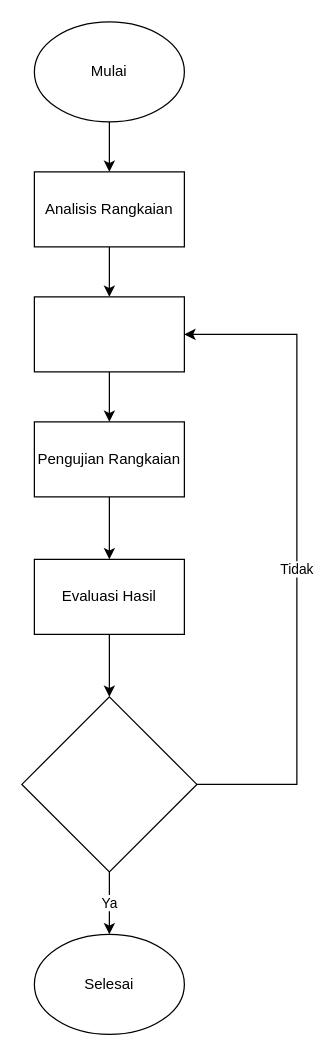
Some shapes in this 335 by 1056 pixel diagram are drawn without their labels. Here are the shapes that lost their labels. From the top down, the box of each, then its label:
(33, 296, 184, 372): Perhitungan Komponen
(21, 696, 197, 872): Hasil sudah sesuai spesifikasi?
